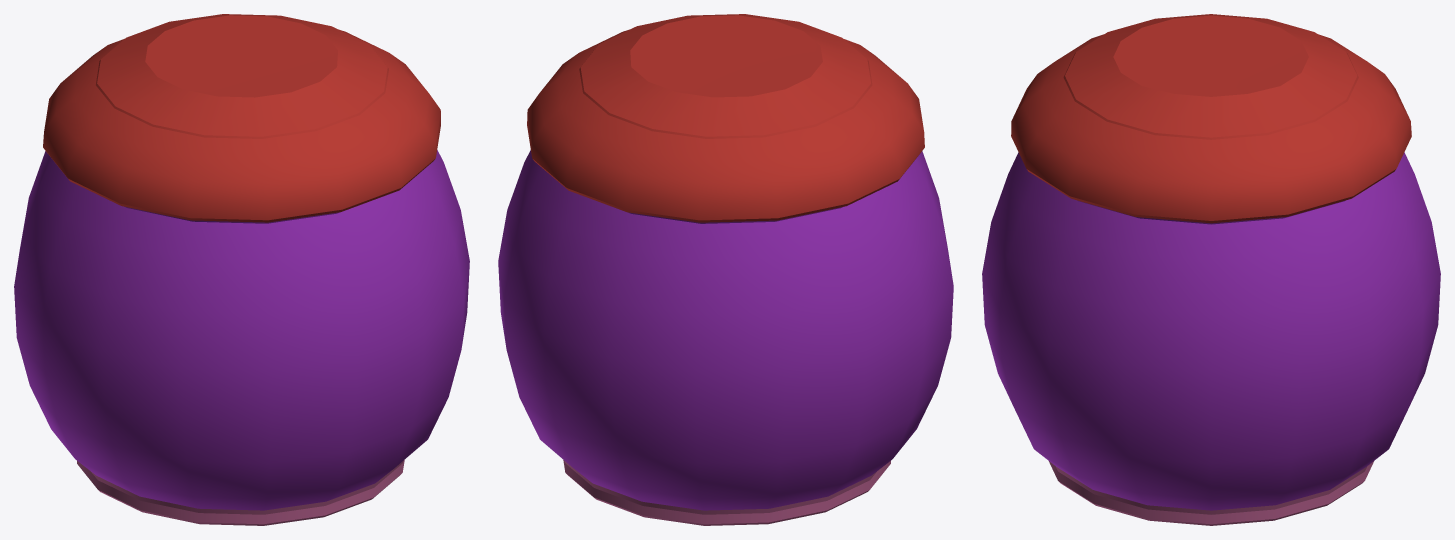
File: Container_Style_09.fbx
3 renders of one model, left to right at view 1: azimuth 30°, elevation 25°; view 2: azimuth 150°, elevation 25°; view 3: azimuth 270°, elevation 25°, orthographic.
Parts seen in each view (by area): view 1: SetA_Container_Style_09; view 2: SetA_Container_Style_09; view 3: SetA_Container_Style_09.
Part boxes in pixels (x1=…): SetA_Container_Style_09: x1=14, y1=14, x2=469, y2=525; SetA_Container_Style_09: x1=498, y1=14, x2=953, y2=525; SetA_Container_Style_09: x1=982, y1=14, x2=1440, y2=525.
Size of the model in its own units: 0.2197 by 0.2117 by 0.2197.
